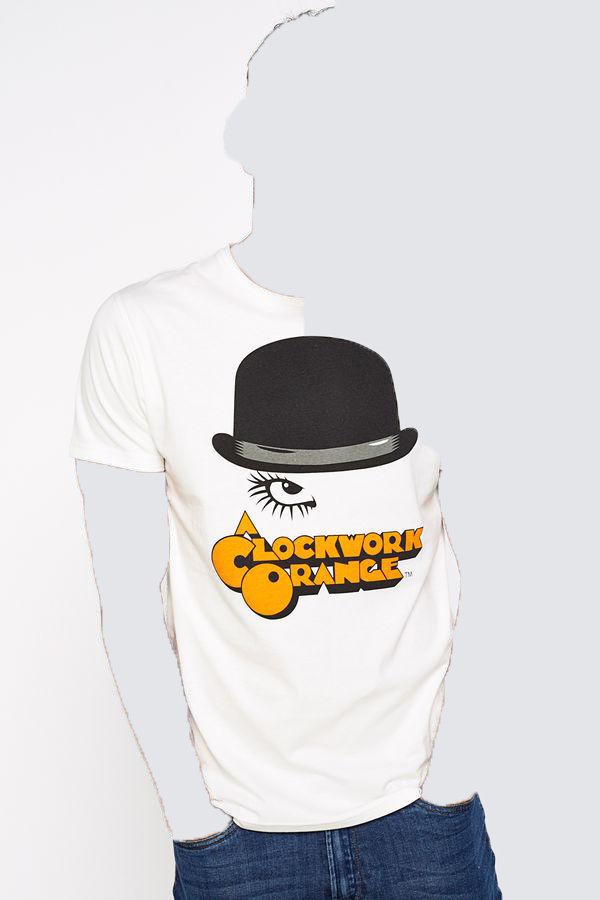teeshirt: (68, 244, 519, 830)
